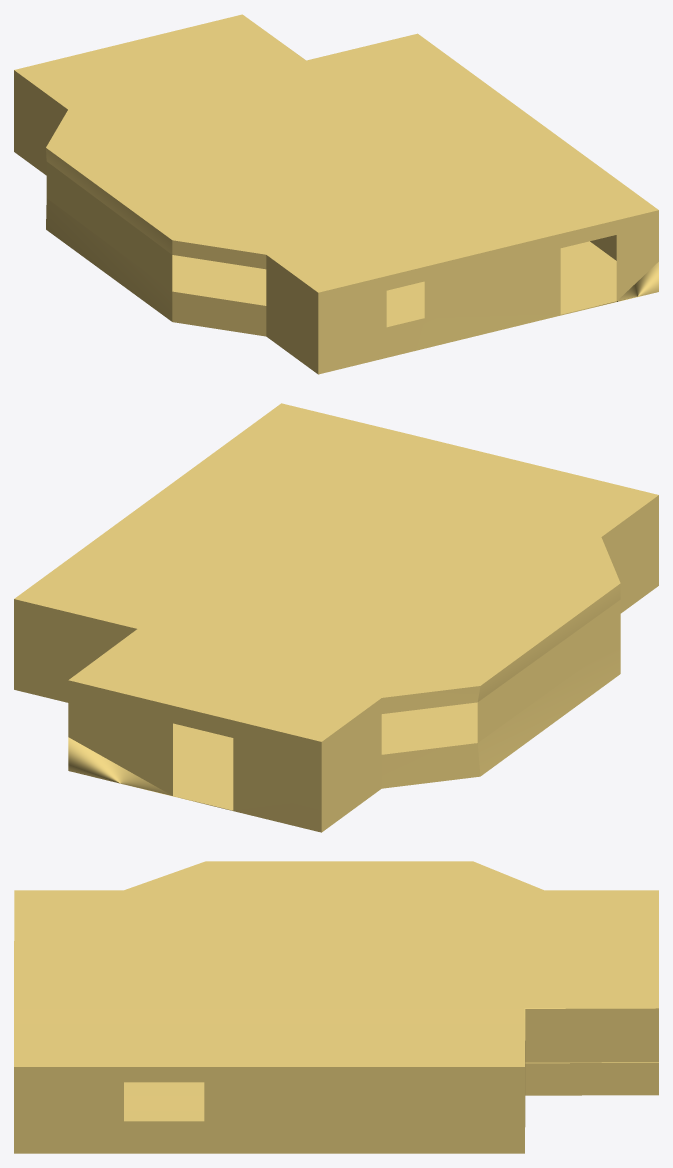
File: prototype caf.fbx
3 views of the same model, one above another, from view 1: azimuth 30°, elevation 25°; view 2: azimuth 150°, elevation 25°; view 3: azimuth 270°, elevation 25° (orthographic). The views are drawn at different scales.
Parts seen in each view (by area): view 1: Cube; view 2: Cube; view 3: Cube.
Part boxes in pixels (<box>): Cube: <box>14,14,658,374</box>; Cube: <box>14,403,658,832</box>; Cube: <box>14,861,658,1153</box>.
Bounding box in the file's own units: 2421 × 481 × 3221.
